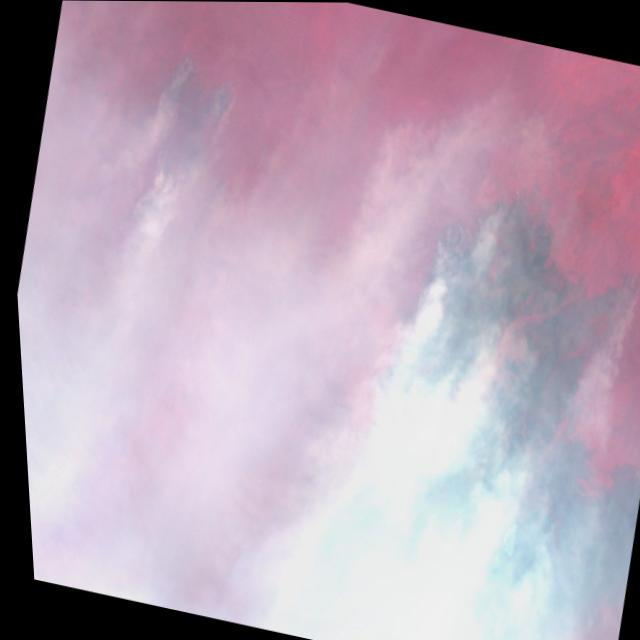fire: (295, 149, 640, 640), (125, 39, 248, 214)
